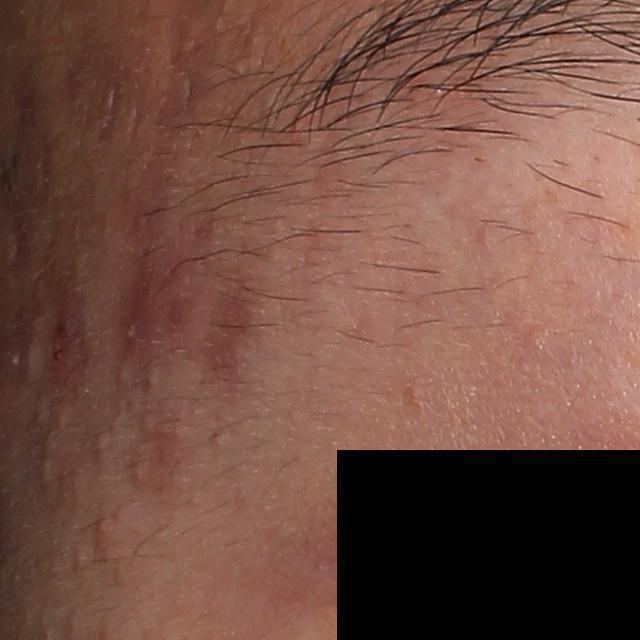comedo: (89, 432, 116, 454)
papule: (93, 513, 115, 539)
